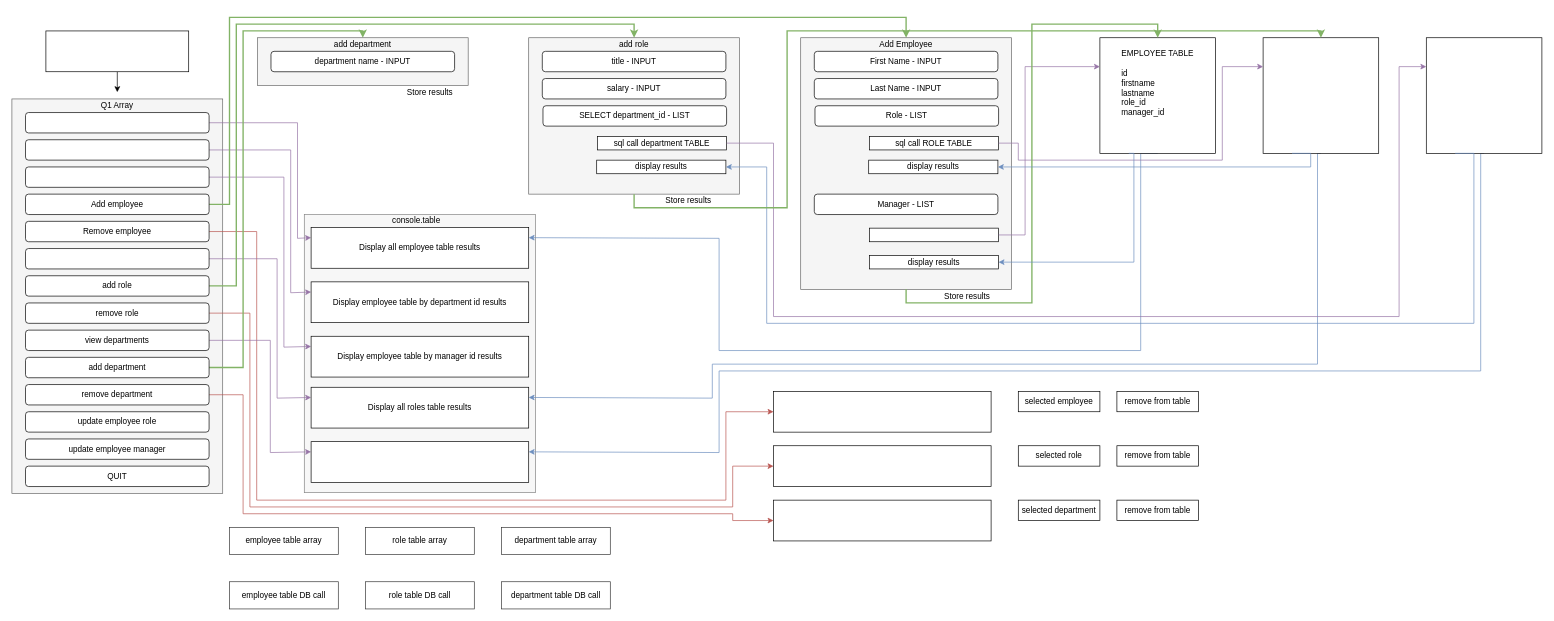
Some shapes in this 1554 by 621 pixel diagram are drawn without their labels. The shapes that lost their labels are listed below. From the top down, each one's centre as x and y in pixels, then its label:
the point at 117,51: What do you want to do?
the point at 1320,95: ROLE TABLE title salary department_id
the point at 1484,95: DEPARTMENT TABLE id department name
the point at 117,122: View All Employees
the point at 117,149: View Employees by department
the point at 117,176: View Employees by manager
the point at 934,234: sql call EMPLOYEE TABLE
the point at 117,258: view all roles
the point at 882,411: make call to employee table return results in array feed array into inquirer
the point at 419,461: Display department table results
the point at 882,466: make call to role table return results to array feed array into inquirer
the point at 882,520: make call to department table return results to array feed array into inquirer
